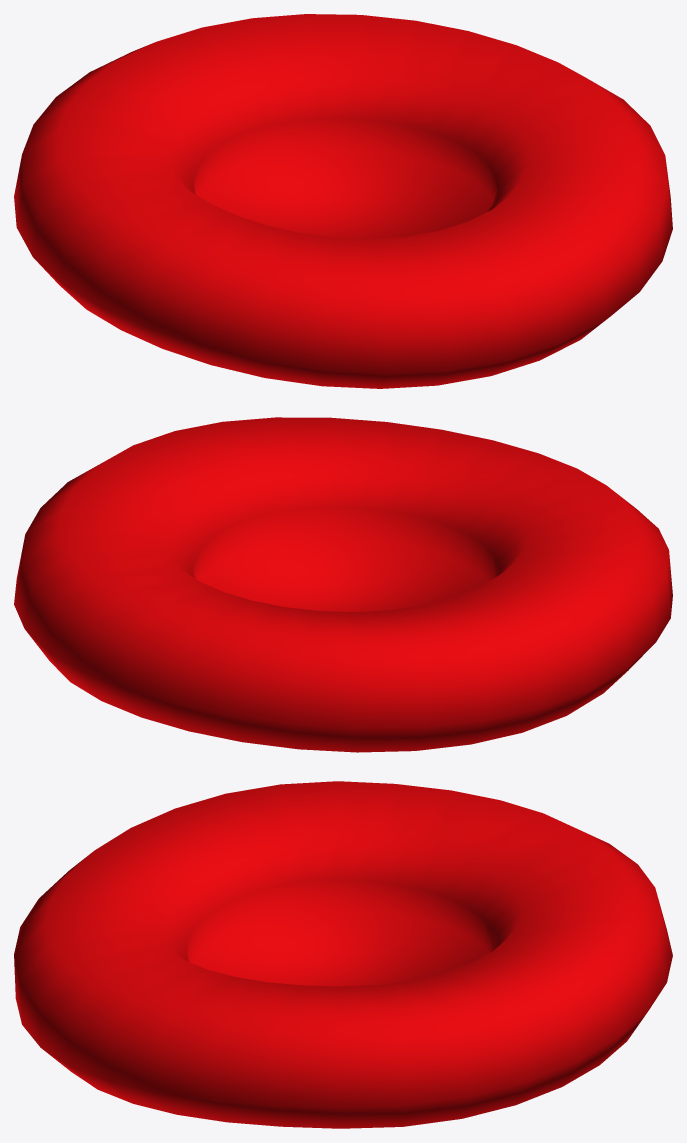
The model's file is red_blood_cell_3.fbx.
3 renders of one model, top to bottom at view 1: azimuth 30°, elevation 25°; view 2: azimuth 150°, elevation 25°; view 3: azimuth 270°, elevation 25°, orthographic.
Visible parts, largest first — view 1: Cylinder.003; view 2: Cylinder.003; view 3: Cylinder.003.
Boxes of the visible parts, bbox=[...] form: Cylinder.003: bbox=[14, 14, 672, 388]; Cylinder.003: bbox=[14, 417, 672, 752]; Cylinder.003: bbox=[14, 781, 672, 1128].
Bounding box in the file's own units: 200 × 46.01 × 203.
